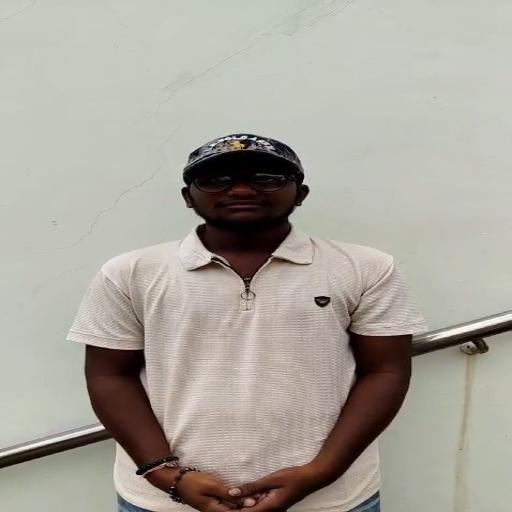employee-detectio-system: (61, 122, 435, 396)
